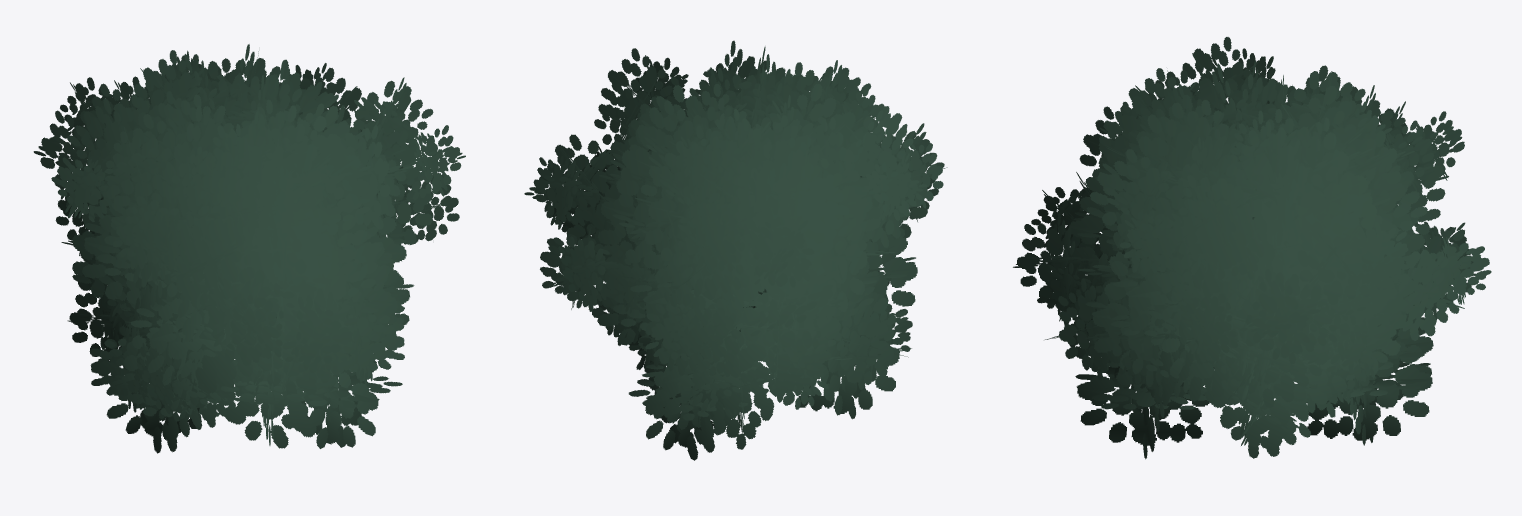
File: berry-bush-open-canes-empty.glb
3 views of the same model, side by side, from view 1: azimuth 30°, elevation 25°; view 2: azimuth 150°, elevation 25°; view 3: azimuth 270°, elevation 25° (orthographic). The views are drawn at different scales.
Parts seen in each view (by area): view 1: berry-bush-open-canes-empty runtime mesh; view 2: berry-bush-open-canes-empty runtime mesh; view 3: berry-bush-open-canes-empty runtime mesh.
Boxes of the visible parts, <box> form: berry-bush-open-canes-empty runtime mesh: <box>33,44,465,453</box>; berry-bush-open-canes-empty runtime mesh: <box>524,40,947,460</box>; berry-bush-open-canes-empty runtime mesh: <box>1013,37,1491,459</box>.
Bounding box in the file's own units: 1.04 × 1.05 × 1.15.
1 material, 1 textured.
